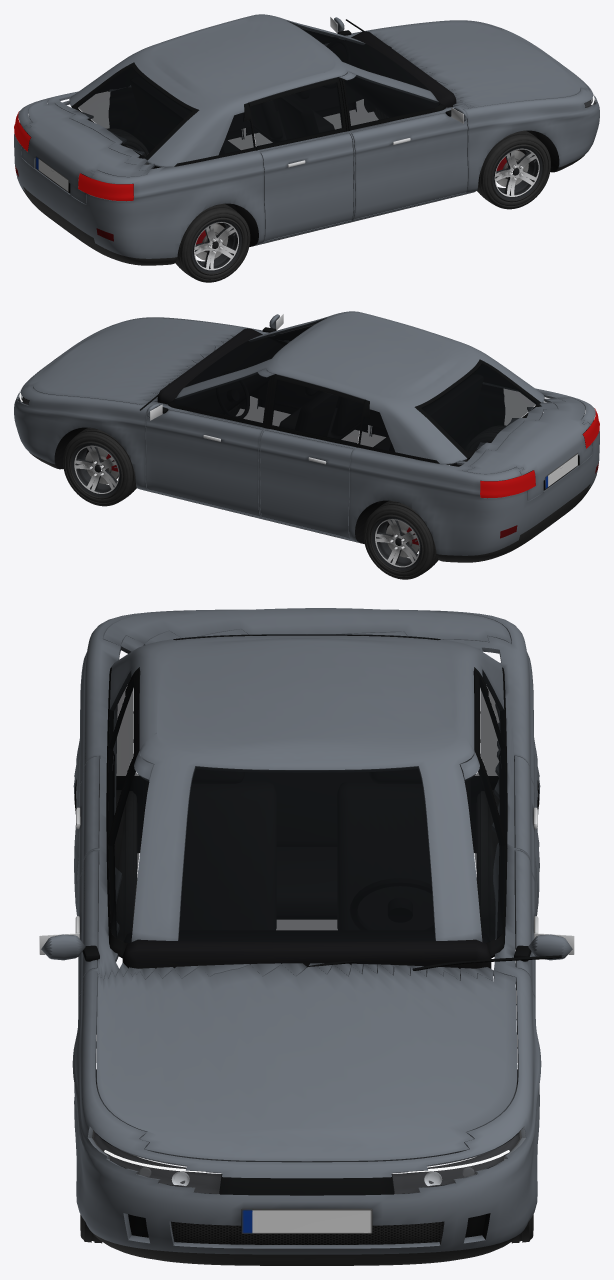
Rendered from car_sedan-hi-v1.glb.
3 views of the same model, one above another, from view 1: azimuth 30°, elevation 25°; view 2: azimuth 150°, elevation 25°; view 3: azimuth 270°, elevation 25° (orthographic). The views are drawn at different scales.
Parts seen in each view (by area): view 1: body_geo, interior_geo, hood_panel_geo, door_FR_panel_geo, door_RR_panel_geo, trunk_panel_geo, glass_rear_geo, glass_RR_geo, glass_FR_geo, tyre_RR_geo, tyre_FR_geo, glass_front_geo (+5 smaller); view 2: body_geo, interior_geo, hood_panel_geo, door_FL_panel_geo, door_RL_panel_geo, trunk_panel_geo, glass_rear_geo, glass_RL_geo, glass_FL_geo, tyre_RL_geo, tyre_FL_geo, glass_front_geo (+5 smaller); view 3: body_geo, hood_panel_geo, interior_geo, glass_front_geo, trunk_panel_geo, lights_front_geo, glass_FL_geo, glass_FR_geo, door_FR_panel_geo, door_FL_panel_geo, door_RL_panel_geo, door_RR_panel_geo (+6 smaller).
Boxes of the visible parts, x1,y1,x2,y2 form: body_geo: (14, 14, 599, 265); interior_geo: (20, 28, 589, 207); hood_panel_geo: (368, 21, 589, 108); door_FR_panel_geo: (339, 71, 467, 219); door_RR_panel_geo: (248, 77, 353, 241); trunk_panel_geo: (21, 98, 149, 204); glass_rear_geo: (77, 67, 192, 155); glass_RR_geo: (250, 83, 342, 146); glass_FR_geo: (344, 75, 439, 126); tyre_RR_geo: (175, 203, 250, 282); tyre_FR_geo: (477, 130, 550, 209); glass_front_geo: (288, 21, 429, 90); body_geo: (14, 311, 599, 562); interior_geo: (24, 325, 593, 504); hood_panel_geo: (24, 318, 246, 404); door_FL_panel_geo: (146, 368, 274, 516); door_RL_panel_geo: (260, 374, 365, 538); trunk_panel_geo: (462, 397, 592, 501); glass_rear_geo: (421, 364, 536, 452); glass_RL_geo: (271, 380, 363, 443); glass_FL_geo: (174, 372, 269, 423); tyre_RL_geo: (363, 500, 438, 579); tyre_FL_geo: (63, 427, 136, 506); glass_front_geo: (184, 318, 325, 387); body_geo: (72, 610, 561, 1265); hood_panel_geo: (96, 963, 517, 1162); interior_geo: (122, 769, 491, 980); glass_front_geo: (178, 766, 435, 942); trunk_panel_geo: (103, 608, 511, 645); lights_front_geo: (88, 1128, 525, 1193); glass_FL_geo: (465, 764, 505, 942); glass_FR_geo: (108, 764, 148, 942); door_FR_panel_geo: (78, 751, 153, 997); door_FL_panel_geo: (460, 751, 535, 997); door_RL_panel_geo: (473, 671, 536, 915); door_RR_panel_geo: (77, 671, 140, 915).
Size of the model in its own units: 4.71 by 1.48 by 2.12.
26 materials, 7 textured.
